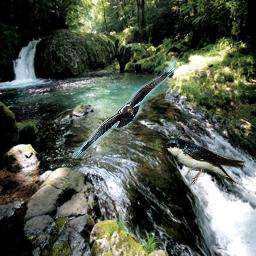Crow: (70, 58, 178, 159)
Swallow: (163, 137, 249, 188)
